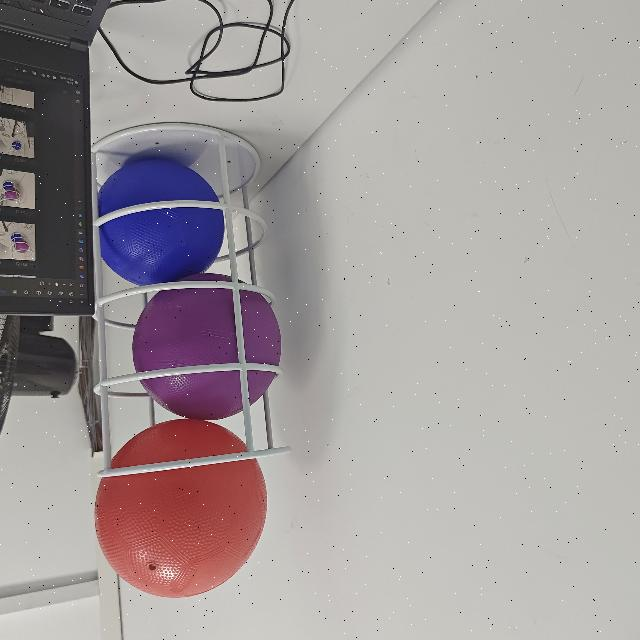B: (100, 152, 226, 286)
P: (134, 281, 282, 423)
R: (94, 418, 268, 600)
S: (91, 124, 295, 482)
